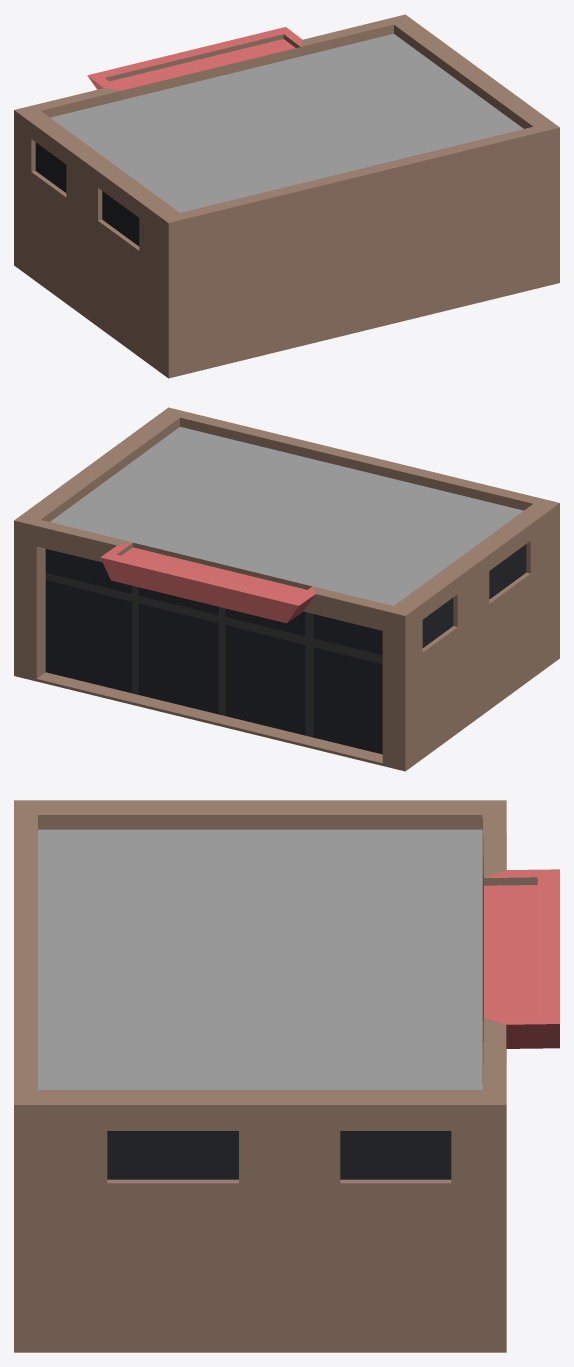
File: supermarket.fbx
3 views of the same model, one above another, from view 1: azimuth 30°, elevation 25°; view 2: azimuth 150°, elevation 25°; view 3: azimuth 270°, elevation 25° (orthographic). The views are drawn at different scales.
Visible parts, largest first — view 1: Cube; view 2: Cube; view 3: Cube.
Part boxes in pixels (x1=…): Cube: x1=14, y1=14, x2=559, y2=378; Cube: x1=14, y1=407, x2=559, y2=771; Cube: x1=14, y1=800, x2=559, y2=1352.
Bounding box in the file's own units: 390 × 148 × 295.
